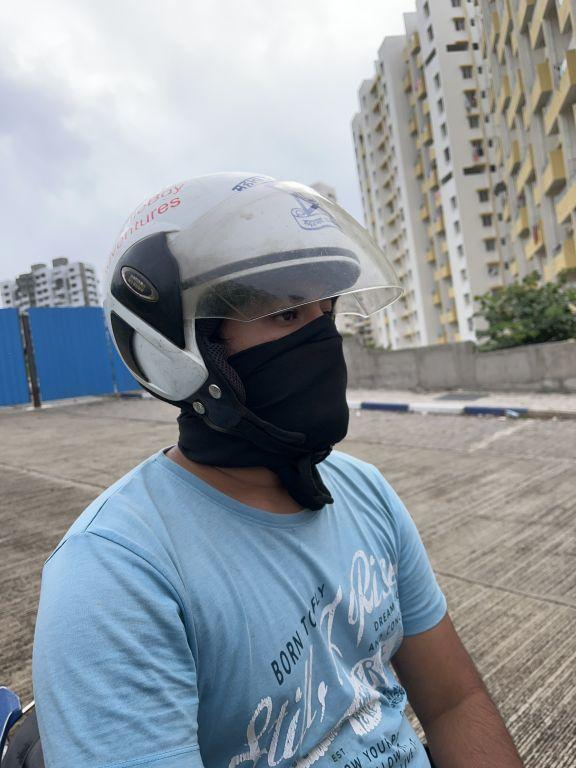helmet: (95, 149, 413, 473)
